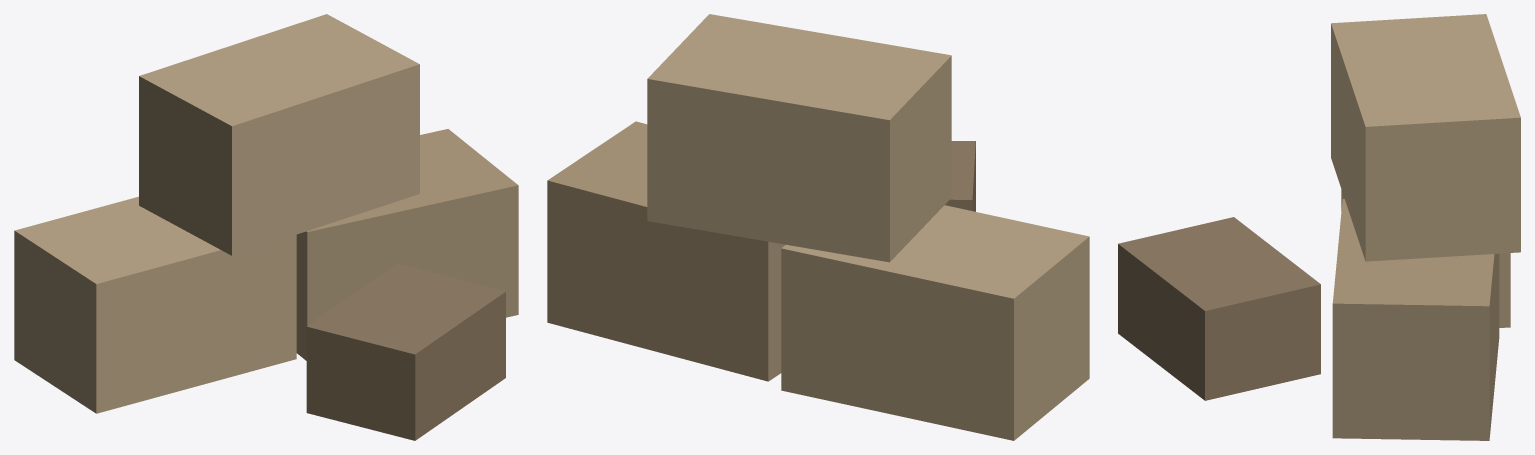
Rendered from block_stack.glb.
3 renders of one model, left to right at view 1: azimuth 30°, elevation 25°; view 2: azimuth 150°, elevation 25°; view 3: azimuth 270°, elevation 25°, orthographic. The views are drawn at different scales.
Parts seen in each view (by area): view 1: block_stack; view 2: block_stack; view 3: block_stack.
Part boxes in pixels (x1,y1,x2,y2): block_stack: [14, 14, 518, 440]; block_stack: [547, 14, 1089, 440]; block_stack: [1118, 14, 1520, 440].
Bounding box in the file's own units: 3.12 × 1.8 × 2.44.
